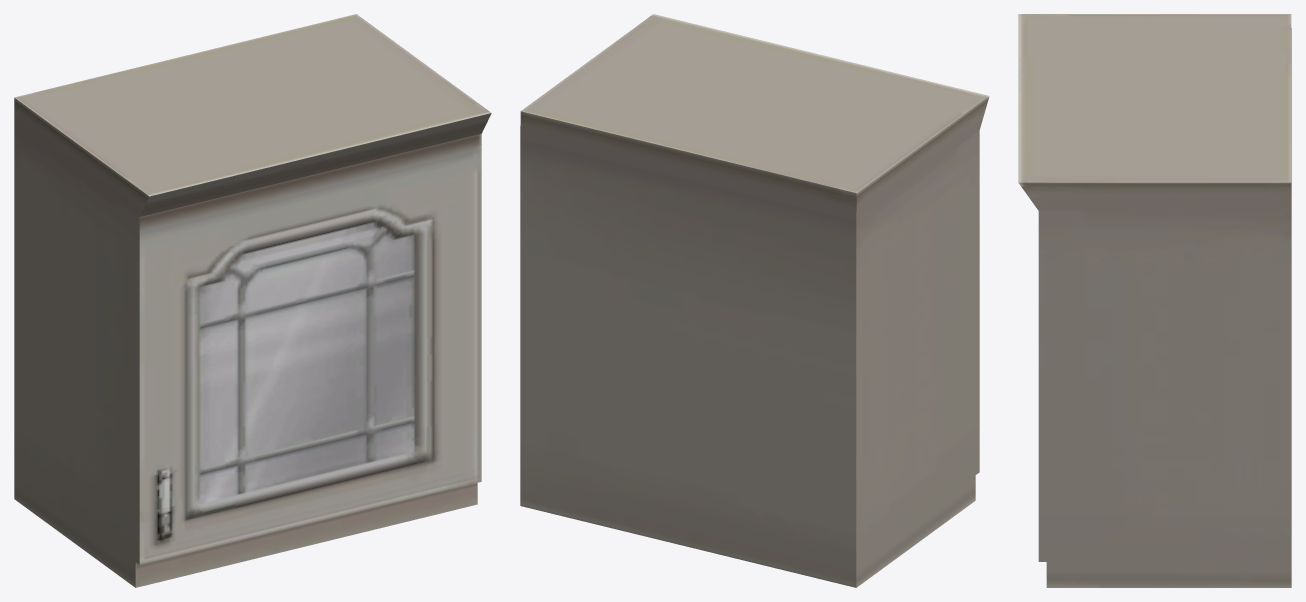
Rendered from furni_0200088.FBX.
3 renders of one model, left to right at view 1: azimuth 30°, elevation 25°; view 2: azimuth 150°, elevation 25°; view 3: azimuth 270°, elevation 25°, orthographic. The views are drawn at different scales.
Visible parts, largest first — view 1: furni_0200088; view 2: furni_0200088; view 3: furni_0200088.
Boxes of the visible parts, x1,y1,x2,y2 form: furni_0200088: (14, 14, 491, 587); furni_0200088: (520, 14, 989, 587); furni_0200088: (1018, 14, 1291, 587).
Size of the model in its own units: 80.02 by 89.77 by 54.87.
Materials: 1 (1 with a texture image).
